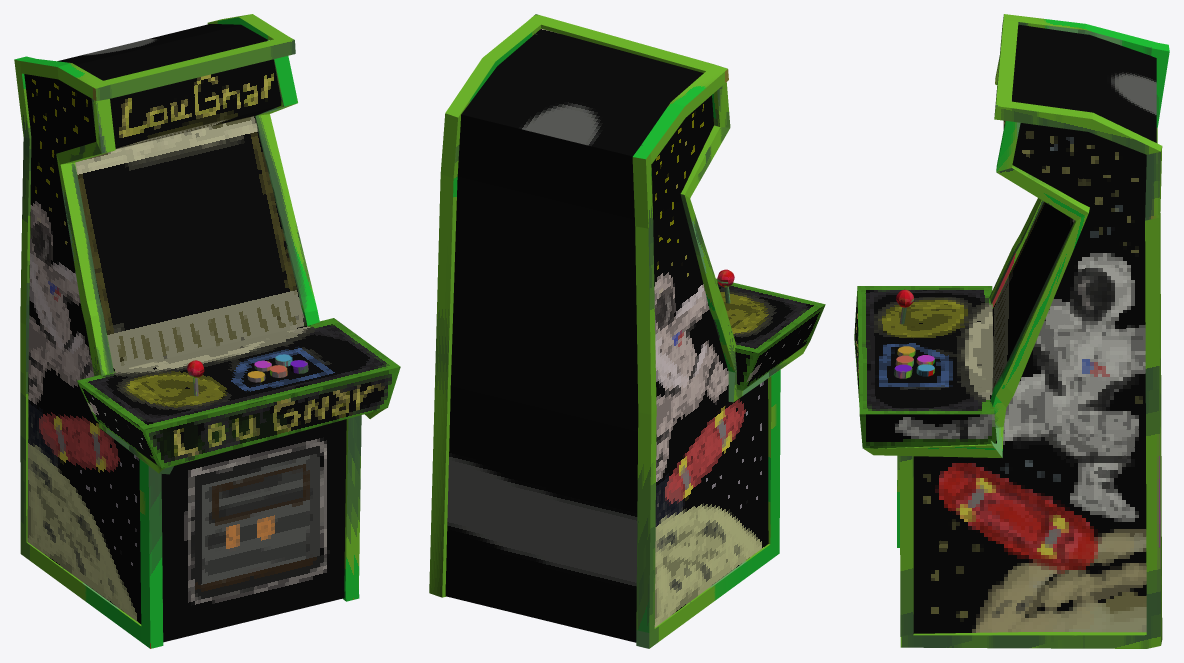
File: lougnar cabinet.glb
The picture shows the model from 3 angles, left to right: view 1: azimuth 30°, elevation 25°; view 2: azimuth 150°, elevation 25°; view 3: azimuth 270°, elevation 25°; orthographic projection.
Parts seen in each view (by area): view 1: cabinet, trim and buttons; view 2: cabinet, trim and buttons; view 3: cabinet, trim and buttons.
Boxes of the visible parts, left/top/right/bottom form: cabinet: left=24, top=24, right=400, bottom=642; trim and buttons: left=14, top=14, right=385, bottom=648; cabinet: left=445, top=28, right=825, bottom=642; trim and buttons: left=429, top=14, right=809, bottom=648; cabinet: left=854, top=24, right=1156, bottom=633; trim and buttons: left=864, top=14, right=1169, bottom=648.
Size of the model in its own units: 3.34 by 6.53 by 3.5.
Materials: 2 (2 with a texture image).
